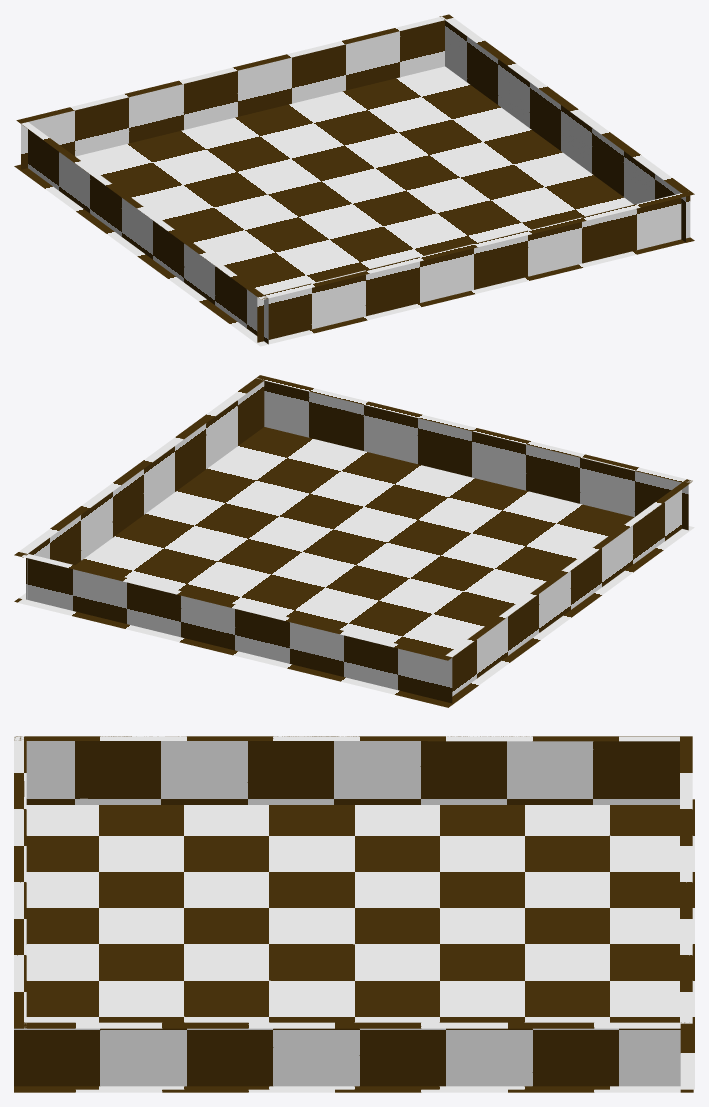
File: MazeTest.obj
3 views of the same model, one above another, from view 1: azimuth 30°, elevation 25°; view 2: azimuth 150°, elevation 25°; view 3: azimuth 270°, elevation 25° (orthographic). The views are drawn at different scales.
Parts seen in each view (by area): view 1: Plane, Cube; view 2: Plane, Cube; view 3: Plane, Cube.
Part boxes in pixels (<box>): Plane: <box>14,66,690,346</box>; Cube: <box>16,14,694,344</box>; Plane: <box>18,427,694,707</box>; Cube: <box>14,375,693,703</box>; Plane: <box>14,799,694,1089</box>; Cube: <box>14,736,693,1092</box>.
Bounding box in the file's own units: 19.59 × 2 × 19.24.
